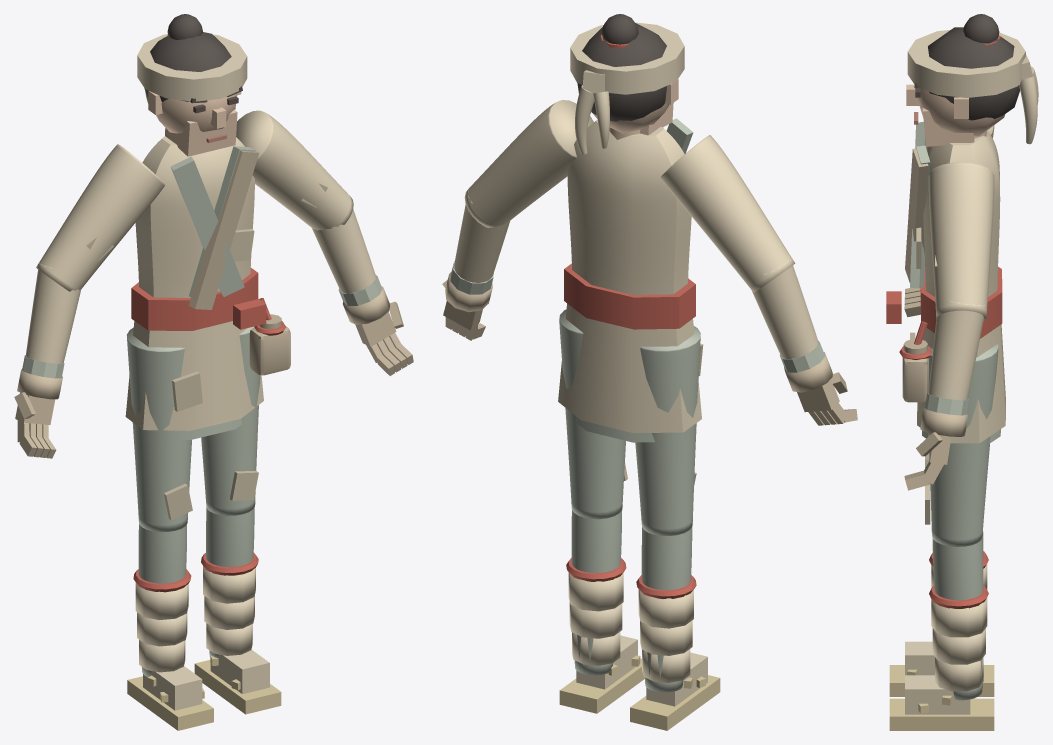
The model's file is a-young-adult-late-eastern-han-civilian-field.glb.
3 renders of one model, left to right at view 1: azimuth 30°, elevation 25°; view 2: azimuth 150°, elevation 25°; view 3: azimuth 270°, elevation 25°, orthographic. The views are drawn at different scales.
Parts seen in each view (by area): view 1: Body, UpperLeg_R_Group, UpperArm_R_Group, LowerLeg_R_Group, LowerLeg_L_Group, UpperArm_L_Group, UpperLeg_L_Group, Head_Group, LowerArm_R_Group, Foot_R_Group, Foot_L_Group, LowerArm_L_Group (+2 smaller); view 2: Body, UpperArm_R_Group, UpperLeg_R_Group, LowerLeg_L_Group, LowerLeg_R_Group, UpperArm_L_Group, UpperLeg_L_Group, LowerArm_R_Group, Foot_R_Group, LowerArm_L_Group, Foot_L_Group, Hand_R_Group (+2 smaller); view 3: Body, UpperArm_L_Group, LowerLeg_L_Group, UpperLeg_L_Group, LowerArm_L_Group, Foot_L_Group, Head_Group, Hand_L_Group, Foot_R_Group, Hand_R_Group, LowerLeg_R_Group.
Part boxes in pixels (x1,y1,x2,y2): Body: (125, 14, 290, 439); UpperLeg_R_Group: (127, 327, 192, 531); UpperArm_R_Group: (36, 144, 165, 291); LowerLeg_R_Group: (133, 524, 191, 677); LowerLeg_L_Group: (201, 507, 258, 657); UpperArm_L_Group: (236, 110, 353, 230); UpperLeg_L_Group: (201, 326, 260, 515); Head_Group: (148, 86, 242, 156); LowerArm_R_Group: (22, 262, 80, 378); Foot_R_Group: (127, 666, 213, 730); Foot_L_Group: (194, 649, 281, 714); LowerArm_L_Group: (312, 192, 382, 305); Body: (558, 14, 703, 442); UpperArm_R_Group: (660, 135, 795, 292); UpperLeg_R_Group: (635, 326, 700, 535); LowerLeg_L_Group: (566, 510, 626, 675); LowerLeg_R_Group: (636, 527, 696, 692); UpperArm_L_Group: (464, 100, 593, 227); UpperLeg_L_Group: (559, 309, 627, 519); LowerArm_R_Group: (752, 255, 824, 372); Foot_R_Group: (630, 652, 720, 730); LowerArm_L_Group: (450, 186, 509, 294); Foot_L_Group: (559, 635, 644, 713); Hand_R_Group: (784, 352, 857, 425); Body: (886, 14, 1038, 443); UpperArm_L_Group: (928, 162, 994, 320); LowerLeg_L_Group: (929, 538, 988, 700); UpperLeg_L_Group: (925, 344, 998, 546); LowerArm_L_Group: (925, 301, 984, 415); Foot_L_Group: (889, 675, 994, 730); Head_Group: (906, 82, 1005, 146); Hand_L_Group: (904, 407, 967, 490); Foot_R_Group: (889, 641, 994, 696); Hand_R_Group: (904, 264, 925, 317); LowerLeg_R_Group: (929, 532, 988, 589).
Bounding box in the file's own units: 1.21 × 2 × 0.4.
